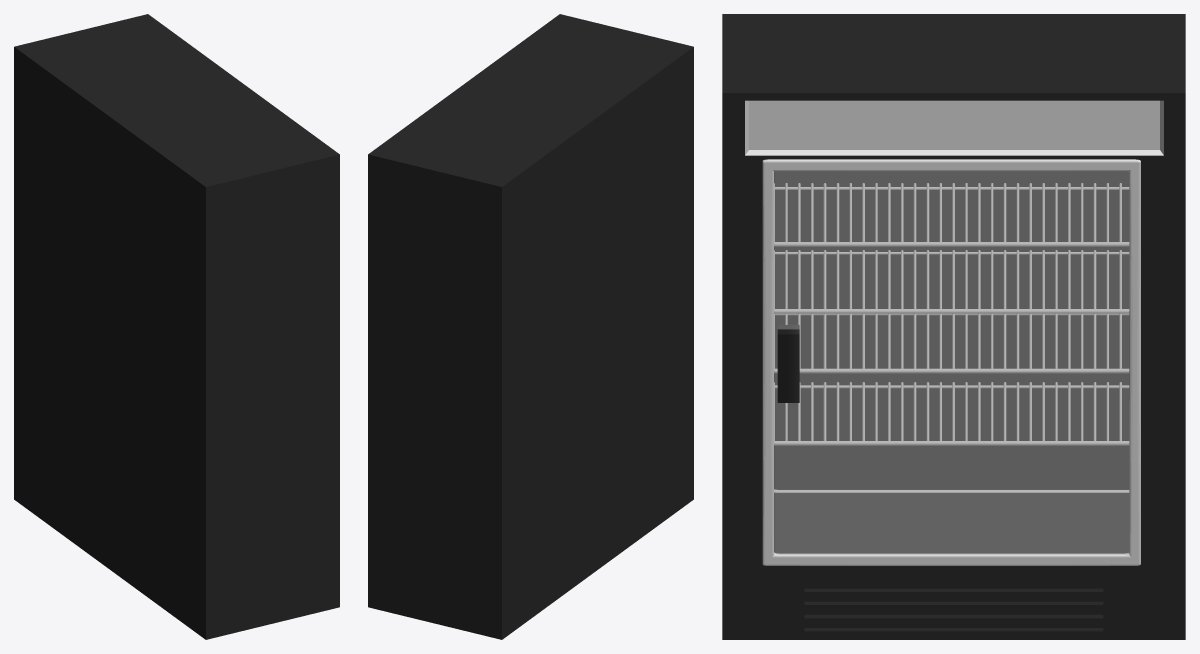
Rendered from Fridge+.fbx.
The picture shows the model from 3 angles, left to right: view 1: azimuth 30°, elevation 25°; view 2: azimuth 150°, elevation 25°; view 3: azimuth 270°, elevation 25°; orthographic projection. The views are drawn at different scales.
Visible parts, largest first — view 1: Cube; view 2: Cube; view 3: Cube, Cube.235, Cylinder.001, Cylinder.003, Cylinder.007, Cube.002, Cylinder.005, Cylinder.004, Cylinder, Cylinder.002, Cylinder.006.
Boxes of the visible parts, x1,y1,x2,y2 form: Cube: [14, 14, 339, 639]; Cube: [368, 14, 693, 639]; Cube: [722, 14, 1185, 639]; Cube.235: [762, 159, 1140, 565]; Cylinder.001: [774, 183, 1121, 241]; Cylinder.003: [774, 250, 1121, 308]; Cylinder.007: [774, 382, 1121, 440]; Cube.002: [774, 187, 1129, 492]; Cylinder.005: [774, 313, 1121, 368]; Cylinder.004: [774, 368, 1129, 373]; Cylinder: [774, 242, 1129, 246]; Cylinder.002: [774, 309, 1129, 313]; Cylinder.006: [774, 441, 1129, 445].
Size of the model in its own units: 10.35 by 31.46 by 24.16.
Materials: 6 (1 with a texture image).
